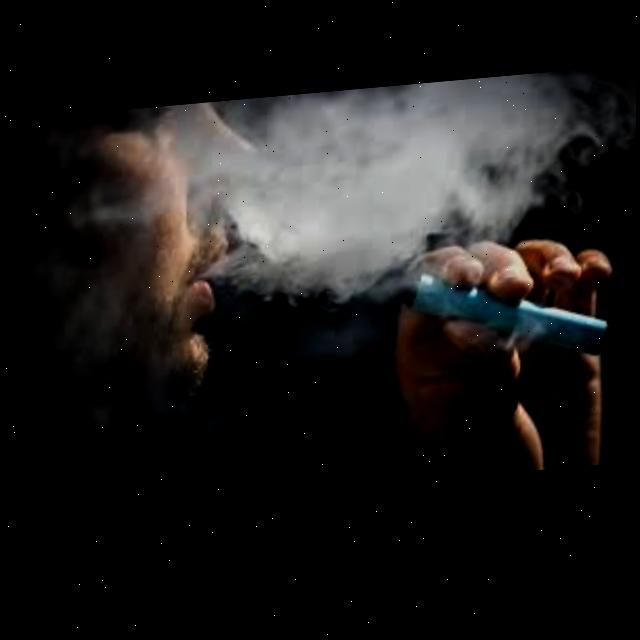vape: (396, 268, 613, 383)
